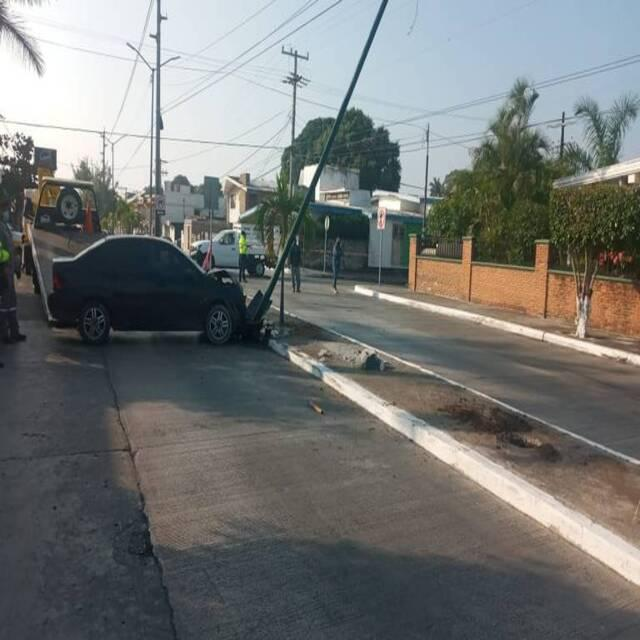Inclined Pole: (242, 0, 391, 320)
